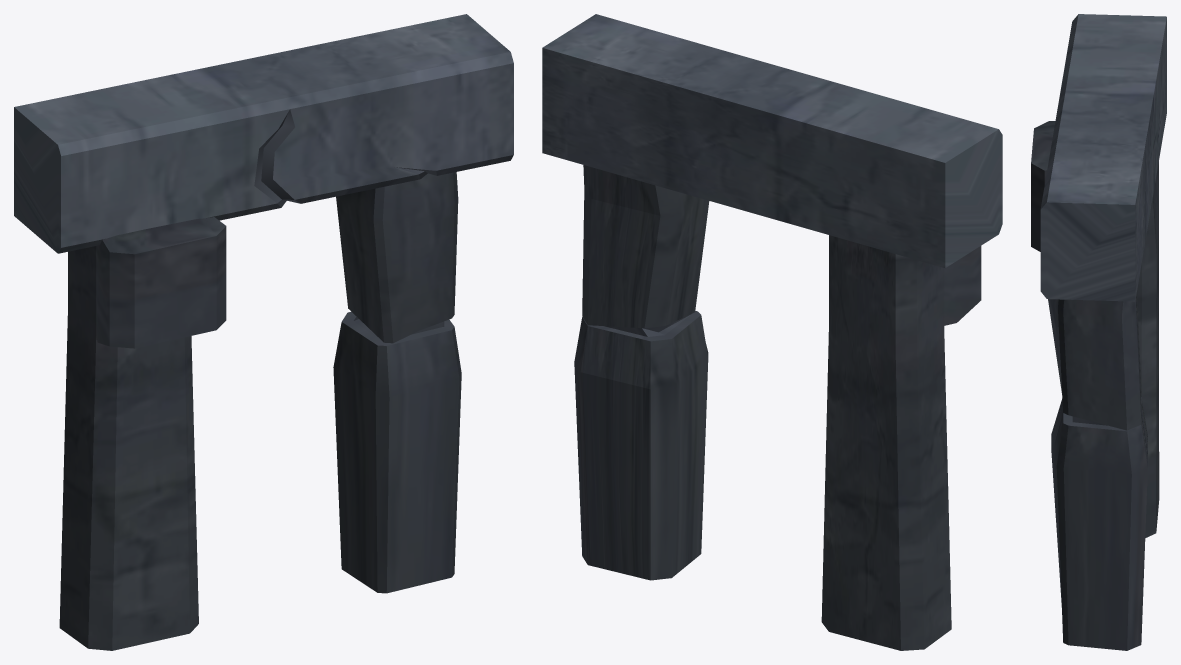
Rendered from stand-arc01.glb.
The picture shows the model from 3 angles, left to right: view 1: azimuth 30°, elevation 25°; view 2: azimuth 150°, elevation 25°; view 3: azimuth 270°, elevation 25°; orthographic projection. The views are drawn at different scales.
Parts seen in each view (by area): view 1: StandArc01; view 2: StandArc01; view 3: StandArc01.
Boxes of the visible parts, left/top/right/bottom form: StandArc01: left=14, top=14, right=513, bottom=650; StandArc01: left=542, top=14, right=1002, bottom=650; StandArc01: left=1031, top=14, right=1166, bottom=650.
Size of what is drawn, in the model's own units: 6.13 by 6.91 by 1.84.
Materials: 1 (1 with a texture image).
